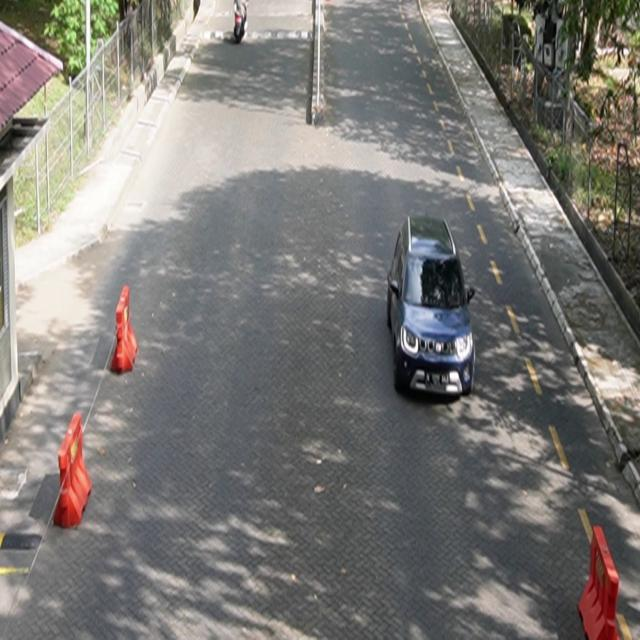car: (387, 214, 476, 400)
